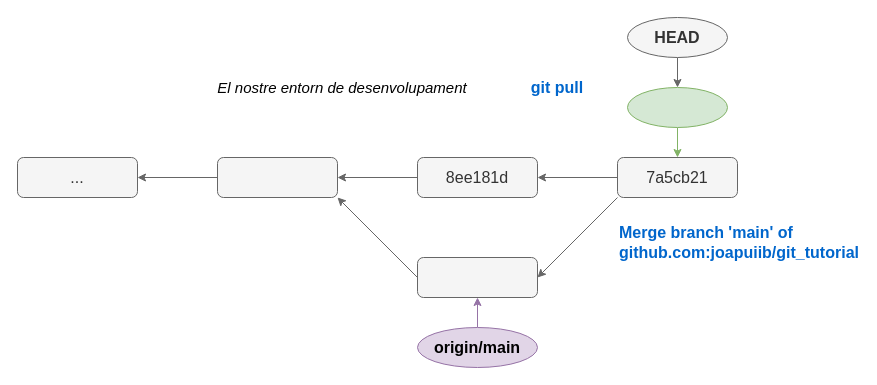
The diagram is 877 pixels wide and 385 high, and some of its shapes have lost their labels. Here are the shapes that lost their labels. From the top down, the centre of each, then its label:
At [677,107]: "main".
At [277,177]: "23bbe2".
At [477,277]: "faed5a5".
